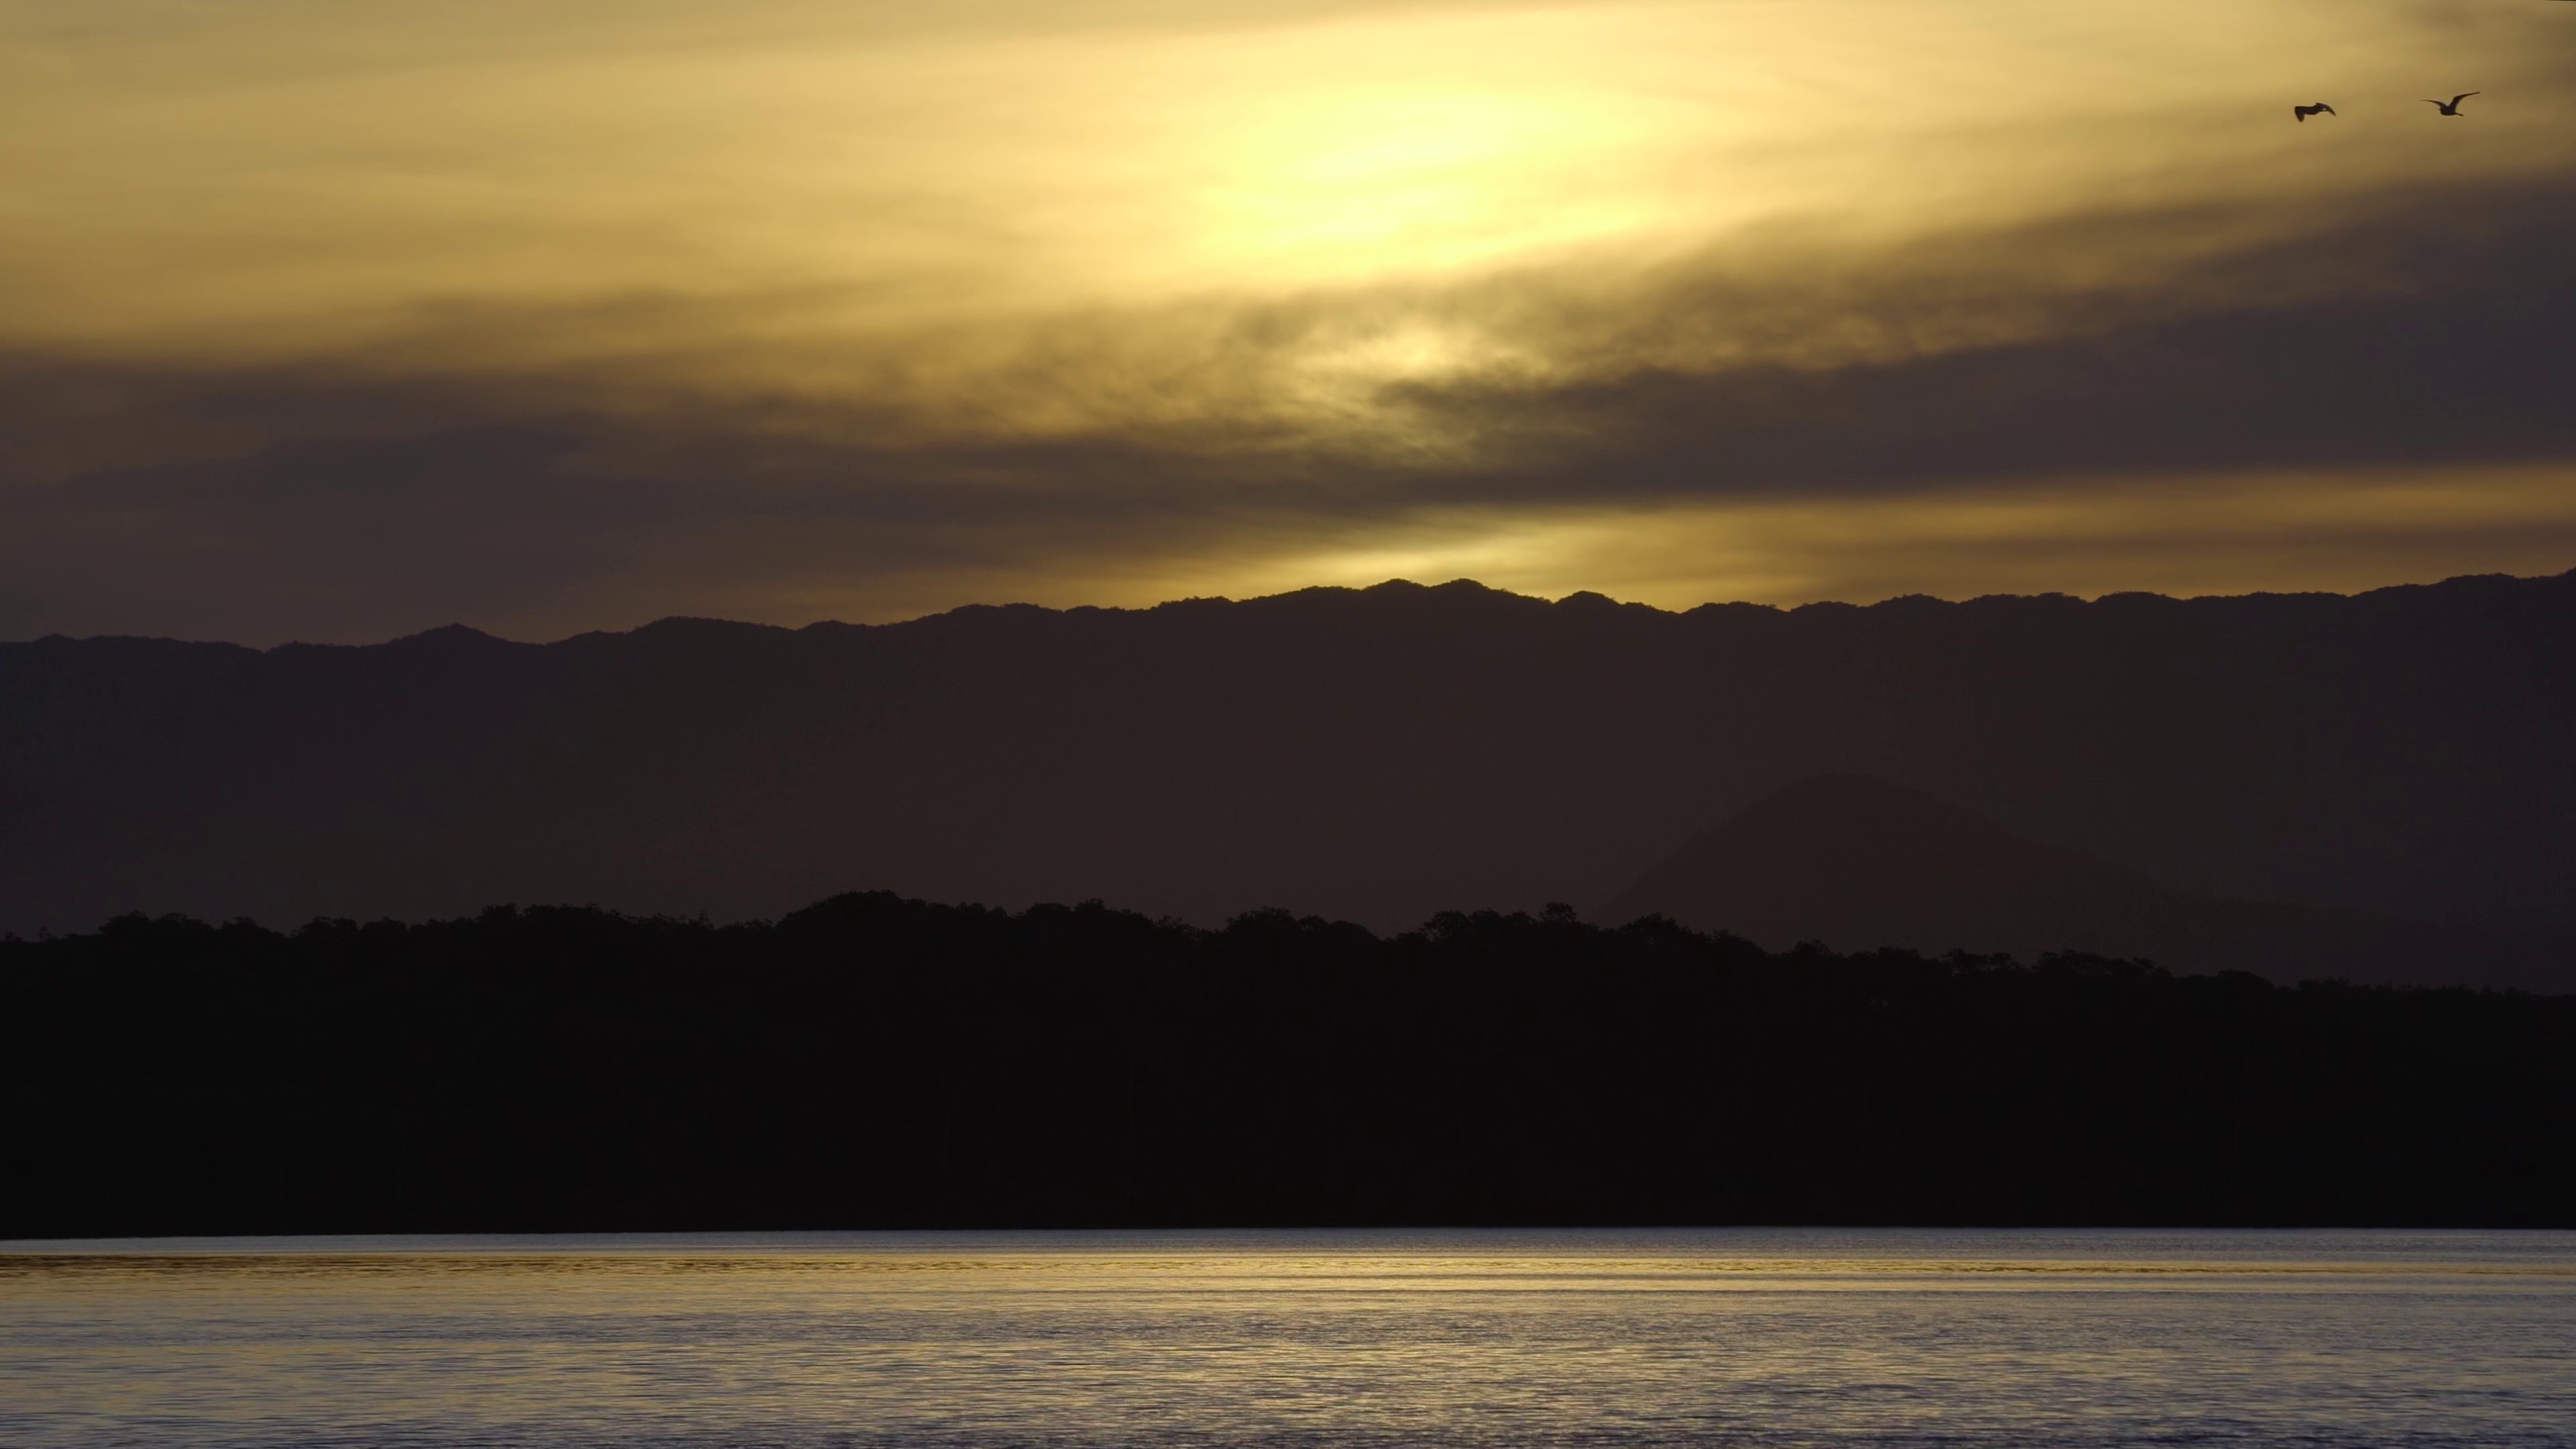bird: (2426, 88, 2477, 119), (2296, 97, 2337, 122)
